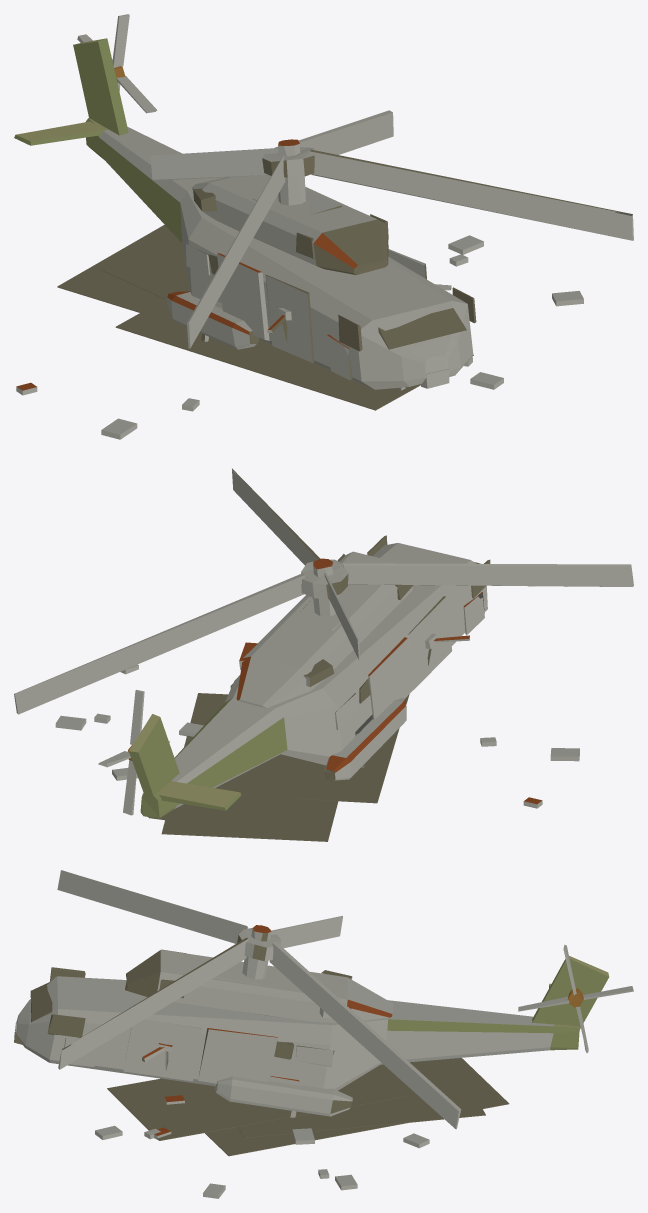
The model's file is SM_RestosNH90_v3_LOD0.fbx.
3 views of the same model, one above another, from view 1: azimuth 30°, elevation 25°; view 2: azimuth 150°, elevation 25°; view 3: azimuth 270°, elevation 25° (orthographic). The views are drawn at different scales.
Parts seen in each view (by area): view 1: SM_bloques.restos_nh90_v3_LOD0; view 2: SM_bloques.restos_nh90_v3_LOD0; view 3: SM_bloques.restos_nh90_v3_LOD0.
Boxes of the visible parts, x1=… form: SM_bloques.restos_nh90_v3_LOD0: x1=14, y1=14, x2=633, y2=439; SM_bloques.restos_nh90_v3_LOD0: x1=14, y1=468, x2=633, y2=841; SM_bloques.restos_nh90_v3_LOD0: x1=14, y1=870, x2=633, y2=1198.
Bounding box in the file's own units: 13.49 × 4.94 × 16.91.
